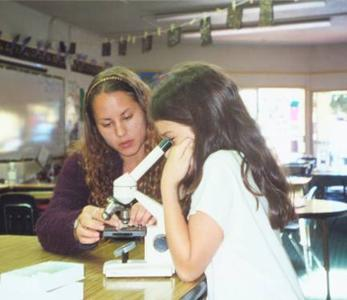person: (149, 63, 305, 300)
